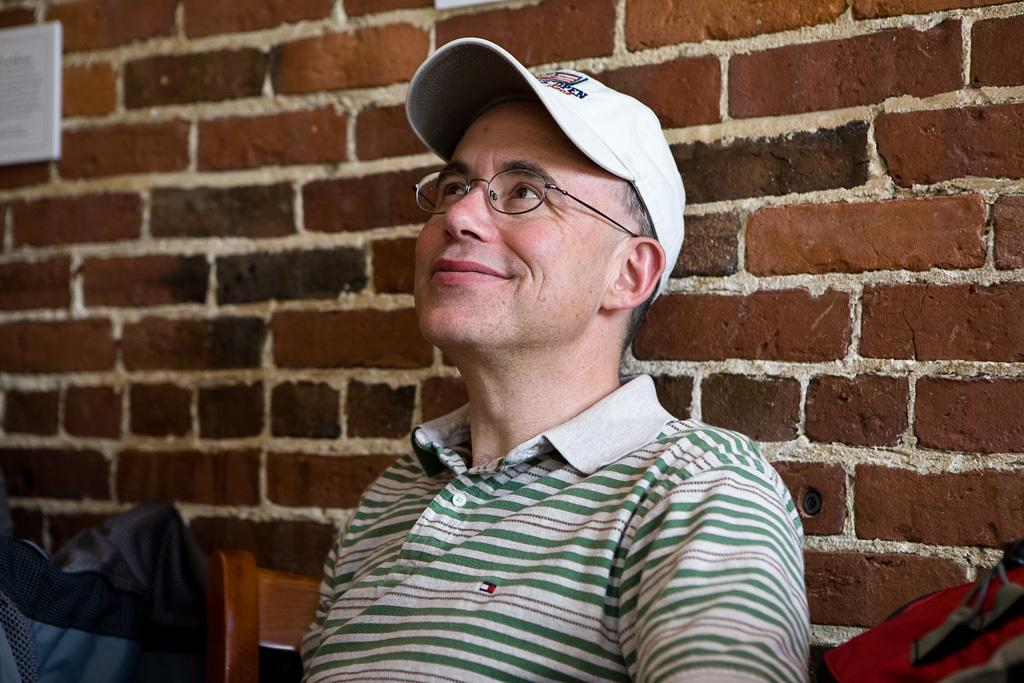Hat: (409, 35, 685, 303)
